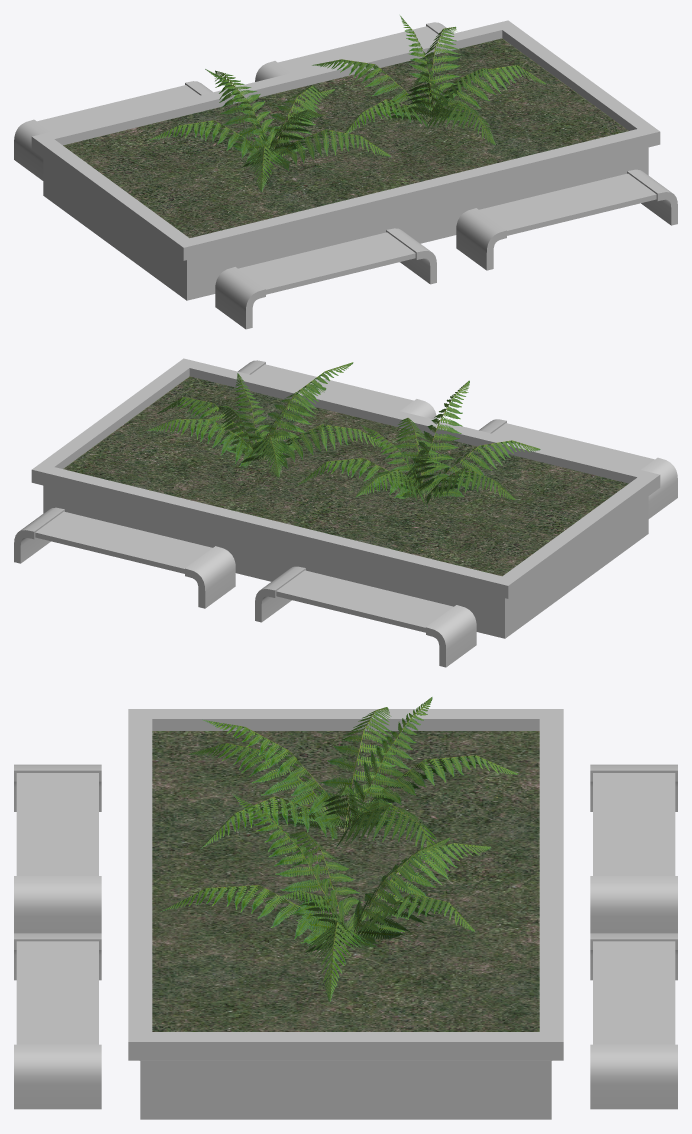
The model's file is Garden-01d.fbx.
The picture shows the model from 3 angles, top to bottom: view 1: azimuth 30°, elevation 25°; view 2: azimuth 150°, elevation 25°; view 3: azimuth 270°, elevation 25°; orthographic projection. The views are drawn at different scales.
Visible parts, largest first — view 1: Garden-01b, Garden-01b-Grass; view 2: Garden-01b, Garden-01b-Grass; view 3: Garden-01b, Garden-01b-Grass.
Boxes of the visible parts, x1,y1,x2,y2 form: Garden-01b: [14, 15, 677, 329]; Garden-01b-Grass: [63, 38, 628, 238]; Garden-01b: [14, 358, 677, 667]; Garden-01b-Grass: [63, 376, 628, 576]; Garden-01b: [14, 697, 677, 1119]; Garden-01b-Grass: [152, 731, 539, 1031].
Size of what is drawn, in the model's own units: 6.72 by 1.76 by 5.66.
